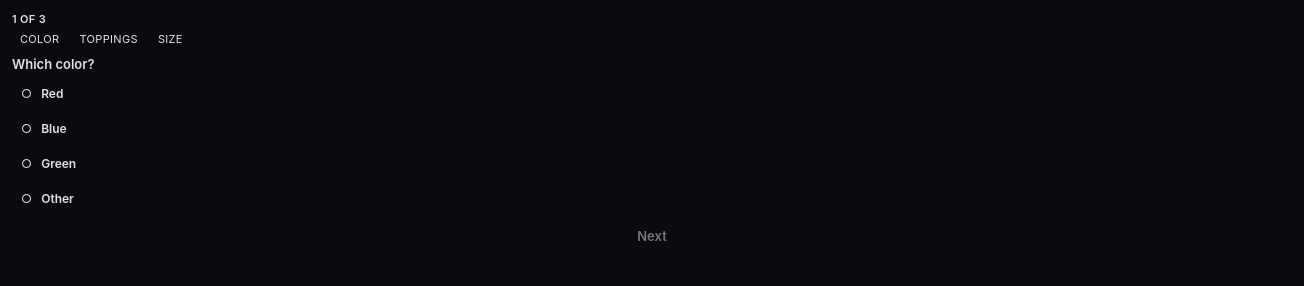
QuestionWizard errors › shows another error with the Terminal link and keeps the staging
Check: the text "1 of 3" is shown, box top-left (12, 12), bottom-right (46, 26)
Click the radio button labelled "○ Red" at (27, 94), box top-left (12, 78), bottom-right (1292, 109)
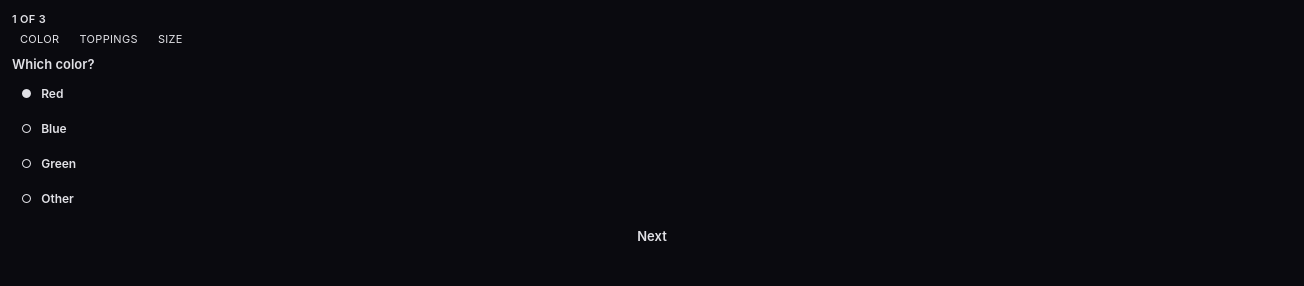
Click the button "Next" at (652, 236), box top-left (12, 228), bottom-right (1292, 244)
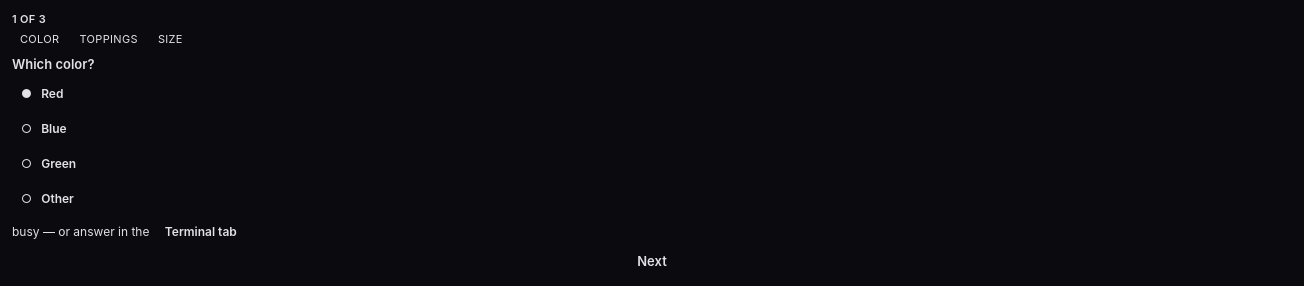
Check: the button "Next" is enabled, box top-left (12, 253), bottom-right (1292, 269)
Check: the text "busy" is shown, box top-left (12, 224), bottom-right (40, 239)
Check: the link "Terminal tab" is shown, box top-left (165, 224), bottom-right (237, 239)
